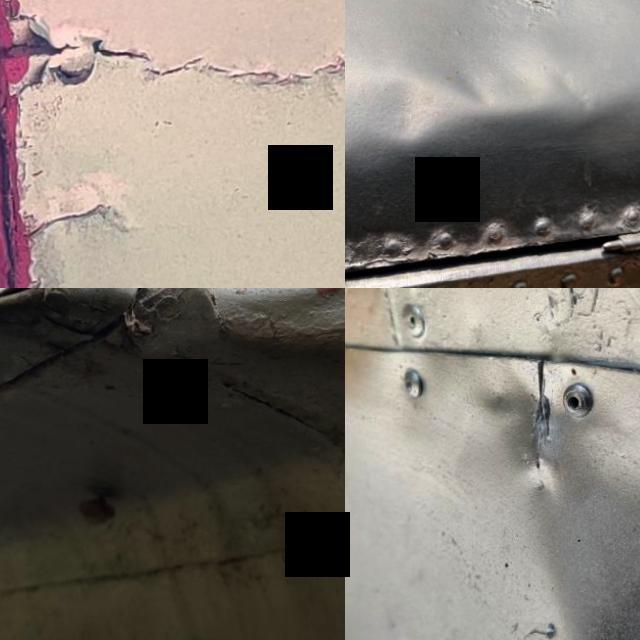Crack: (0, 0, 345, 128), (492, 340, 584, 483), (0, 177, 122, 263), (0, 288, 112, 326), (122, 288, 206, 312)
Dent: (445, 372, 640, 640), (355, 0, 640, 178)
